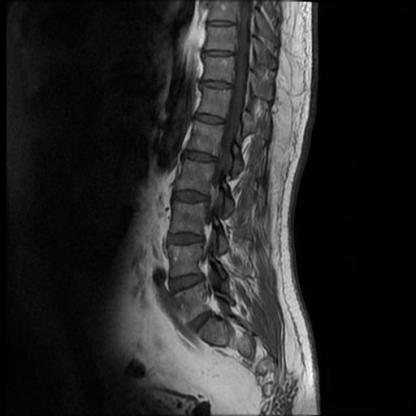Disc Bulgerotation: (183, 310, 222, 334)
Disc Relaxationrotation: (164, 183, 214, 296), (182, 310, 223, 333)
